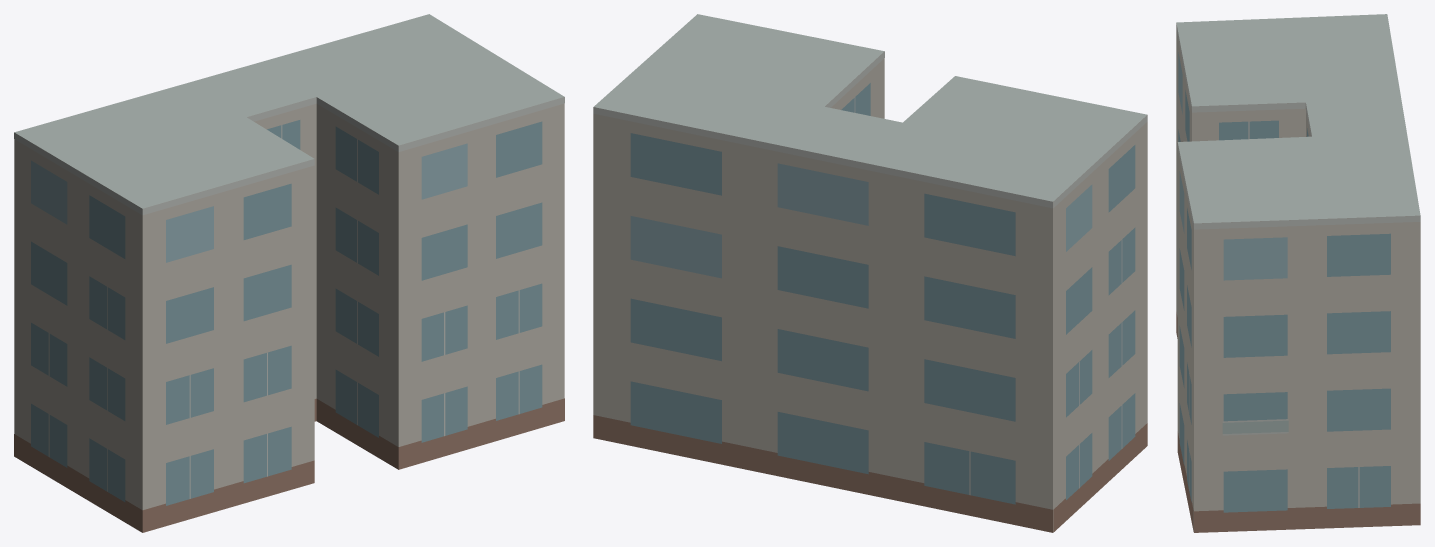
The model's file is survey-upis-32725690.glb.
The picture shows the model from 3 angles, left to right: view 1: azimuth 30°, elevation 25°; view 2: azimuth 150°, elevation 25°; view 3: azimuth 270°, elevation 25°; orthographic projection. The views are drawn at different scales.
Parts seen in each view (by area): view 1: survey-upis-32725690.tmp; view 2: survey-upis-32725690.tmp; view 3: survey-upis-32725690.tmp.
Part boxes in pixels (x1=…): survey-upis-32725690.tmp: x1=14, y1=14, x2=564, y2=532; survey-upis-32725690.tmp: x1=593, y1=14, x2=1147, y2=532; survey-upis-32725690.tmp: x1=1176, y1=14, x2=1420, y2=532.
Size of the model in its own units: 17.42 by 12 by 8.59.
